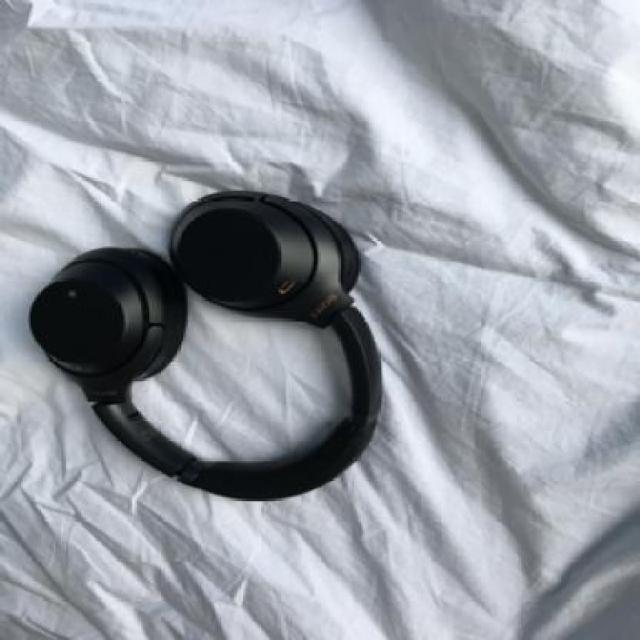earphone: (5, 78, 413, 475)
